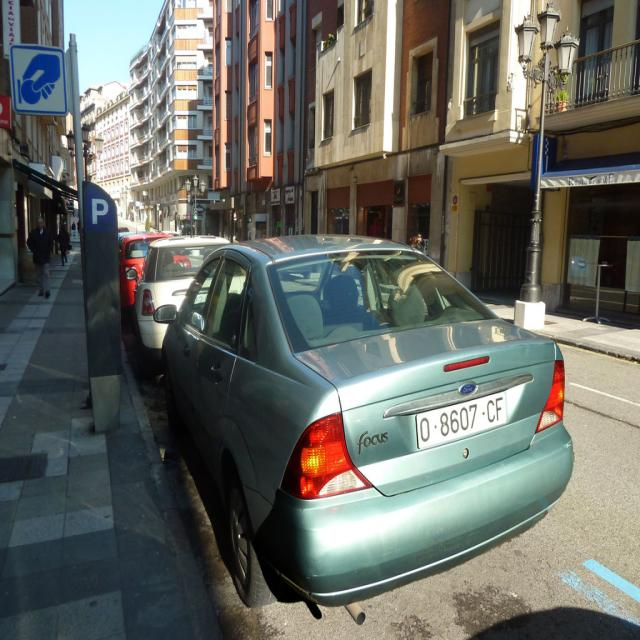car: (147, 217, 572, 625)
